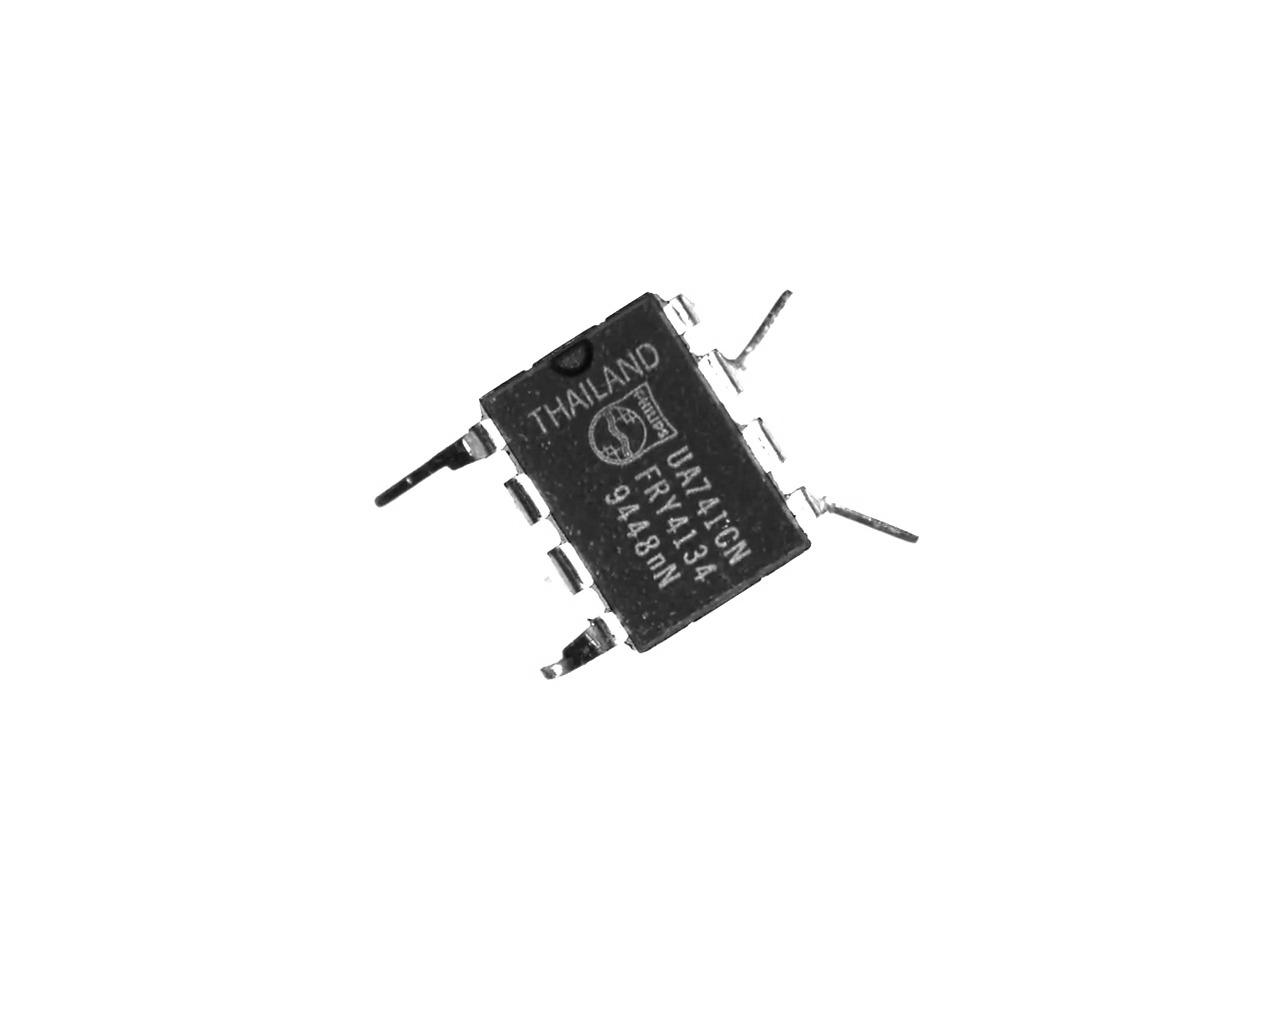Leg: (368, 416, 498, 509), (702, 285, 797, 401), (779, 487, 930, 553), (533, 611, 633, 681), (536, 538, 599, 597), (729, 416, 790, 475), (499, 468, 549, 529), (664, 288, 713, 334)
